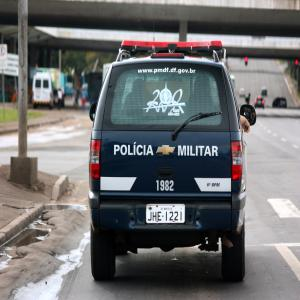Vehicle-registration-plate: (148, 203, 187, 226)
